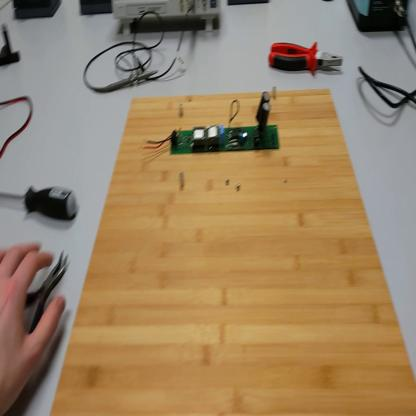hand: (1, 238, 63, 415)
high voltage board: (142, 94, 283, 156)
oscilloscope: (114, 3, 222, 33)
oscilloscope probe tip: (99, 69, 158, 94)
pliers: (23, 249, 71, 338), (270, 37, 344, 76)
screwdriver-: (1, 183, 80, 224)
socket: (13, 1, 63, 21), (80, 3, 114, 20)
welder station: (348, 2, 411, 35)
working area: (53, 87, 416, 415)
